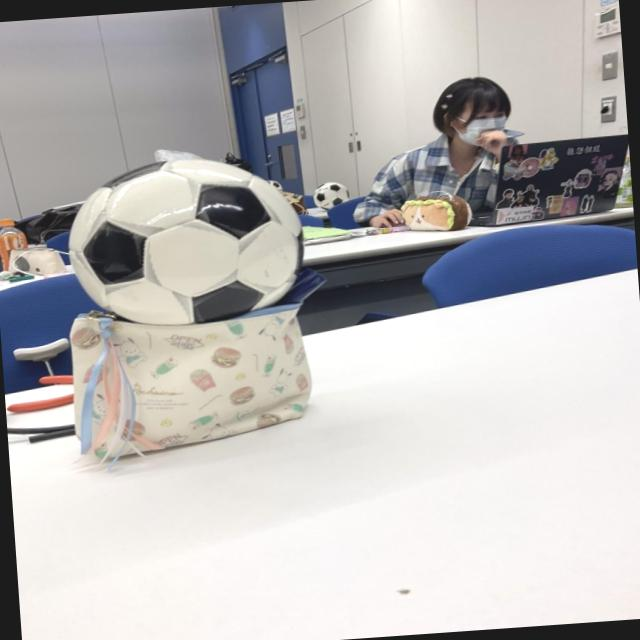Soccer Ball: (62, 150, 311, 332)
